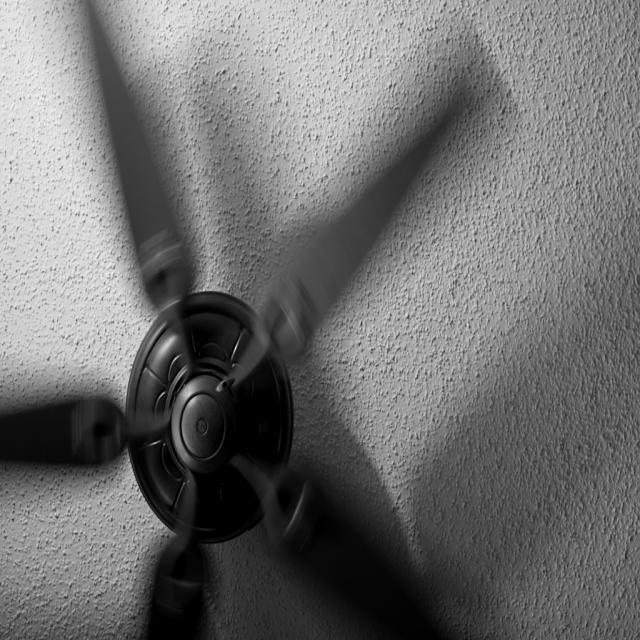fan_on: (2, 0, 514, 640)
